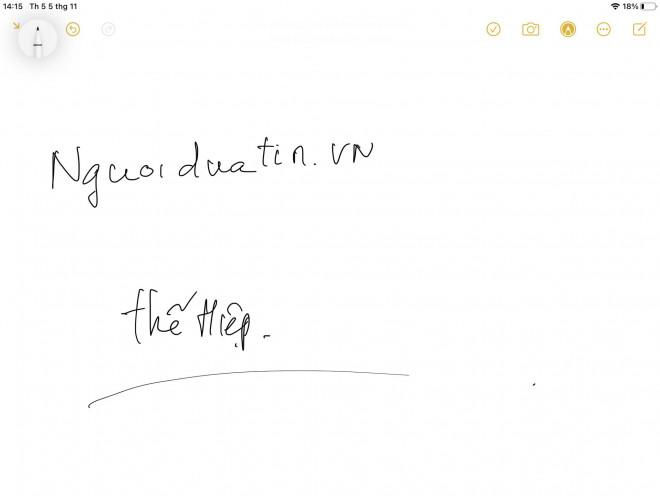text: (46, 136, 377, 214), (117, 285, 274, 354), (1, 0, 79, 13), (619, 2, 640, 11)
